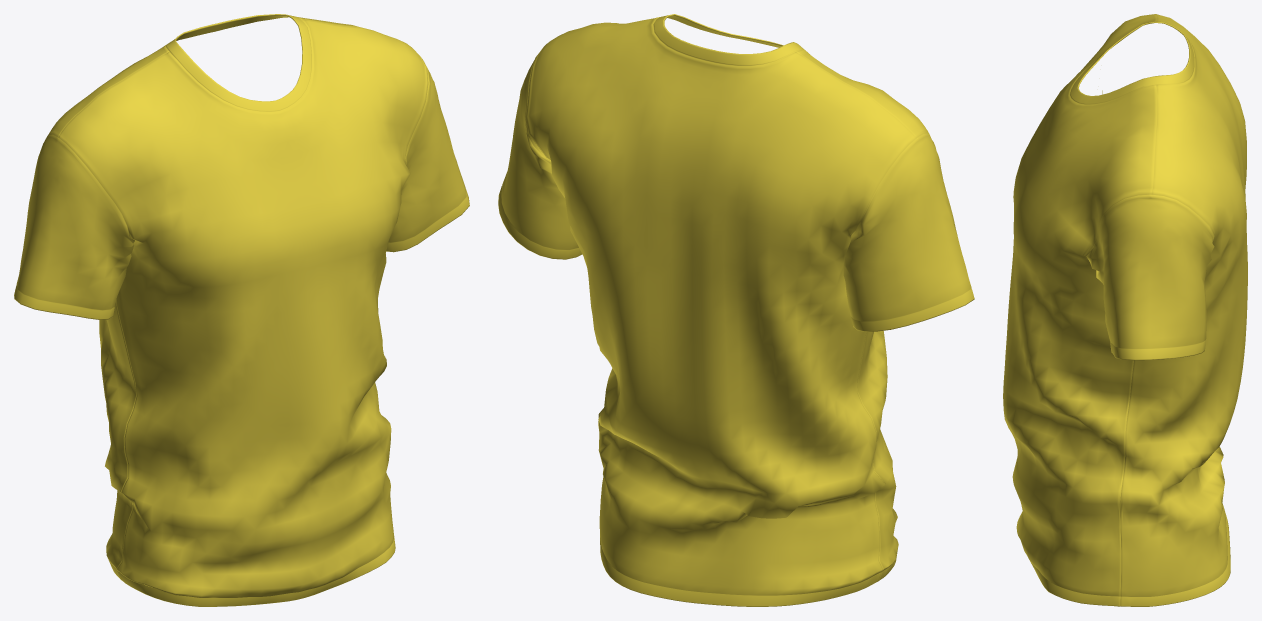
File: camiseta7.glb
3 renders of one model, left to right at view 1: azimuth 30°, elevation 25°; view 2: azimuth 150°, elevation 25°; view 3: azimuth 270°, elevation 25°, orthographic. The views are drawn at different scales.
Parts seen in each view (by area): view 1: yelllow; view 2: yelllow; view 3: yelllow.
Part boxes in pixels (box(x1,y1,x2,y2)): yelllow: box(14, 14, 469, 606); yelllow: box(498, 14, 974, 606); yelllow: box(1003, 14, 1247, 606).
Size of the model in its own units: 0.5527 by 0.6134 by 0.2698.
